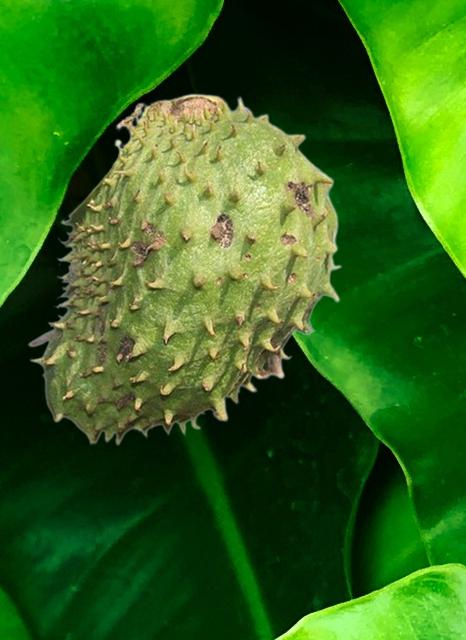guyabano: (27, 93, 341, 445)
